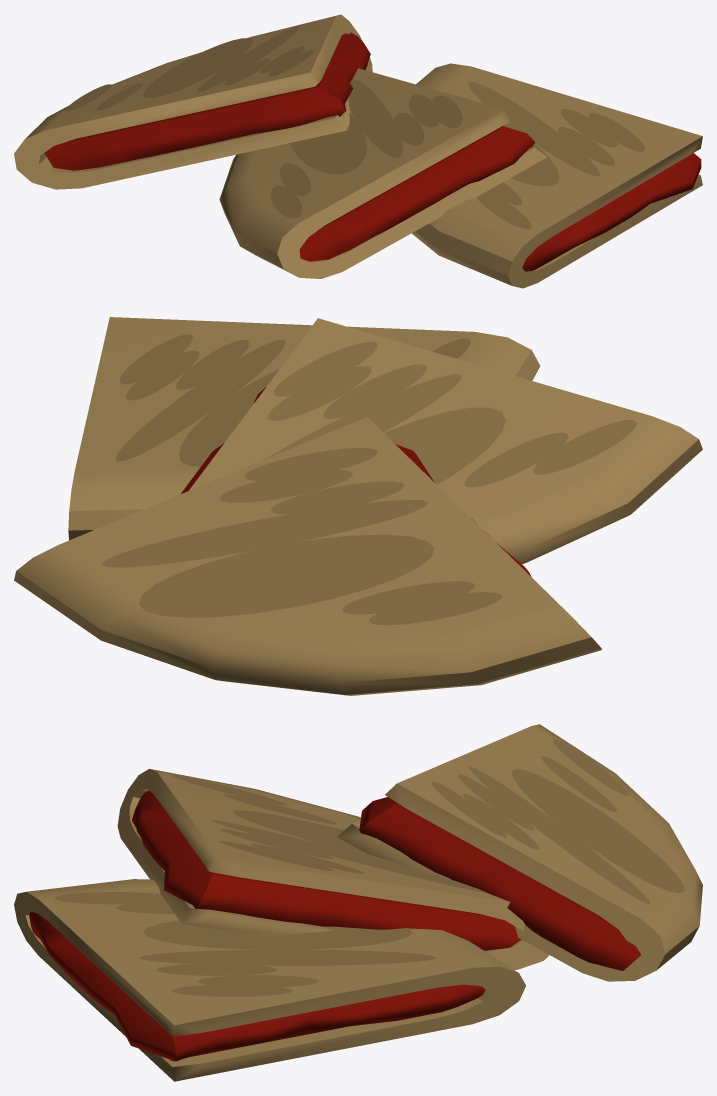
File: quesadilla.fbx
The picture shows the model from 3 angles, top to bottom: view 1: azimuth 30°, elevation 25°; view 2: azimuth 150°, elevation 25°; view 3: azimuth 270°, elevation 25°; orthographic projection. The views are drawn at different scales.
Parts seen in each view (by area): view 1: shell, shell1, shell2, meat2, meat1, pDisc1 (×3), pDisc2 (×3), meat, pDisc7 (×2), pDisc4 (×2), pDisc3 (×2), pDisc5 (×2) (+1 smaller); view 2: shell2, shell1, pDisc2 (×3), shell, pDisc1 (×3), pDisc5 (×3), pDisc3 (×3), pDisc4 (×3), pDisc7 (×2), pDisc6 (×2); view 3: shell, shell2, shell1, meat1, pDisc2 (×3), meat2, meat, pDisc1 (×3), pDisc3 (×3), pDisc5 (×3), pDisc7 (×3), pDisc4 (×3) (+1 smaller).
Part boxes in pixels (x1,y1,x2,y2): shell: (412,63,702,288); shell1: (219,68,547,278); shell2: (14,14,372,189); meat2: (44,32,370,170); meat1: (299,126,534,261); pDisc1 (×3): (197,26,600,176); pDisc2 (×3): (143,38,559,186); meat: (522,153,701,271); pDisc7 (×2): (271,185,531,229); pDisc4 (×2): (409,94,617,147); pDisc3 (×2): (393,113,614,165); pDisc5 (×2): (431,95,645,151); shell2: (14,417,601,695); shell1: (189,318,702,564); pDisc2 (×3): (139,369,505,617); shell: (68,317,540,540); pDisc1 (×3): (101,339,461,567); pDisc5 (×3): (119,334,377,480); pDisc3 (×3): (176,340,426,514); pDisc4 (×3): (126,350,371,502); pDisc7 (×2): (369,420,636,625); pDisc6 (×2): (342,432,568,614); shell: (14,879,525,1081); shell2: (337,724,702,981); shell1: (117,769,549,969); meat1: (132,791,520,950); pDisc2 (×3): (143,769,684,949); meat2: (359,797,641,970); meat: (29,911,485,1061); pDisc1 (×3): (139,766,650,965); pDisc3 (×3): (156,774,534,975); pDisc5 (×3): (171,781,507,996); pDisc7 (×3): (54,739,628,904); pDisc4 (×3): (198,793,539,987).
Bounding box in the file's own units: 36.74 × 7.76 × 35.63.
